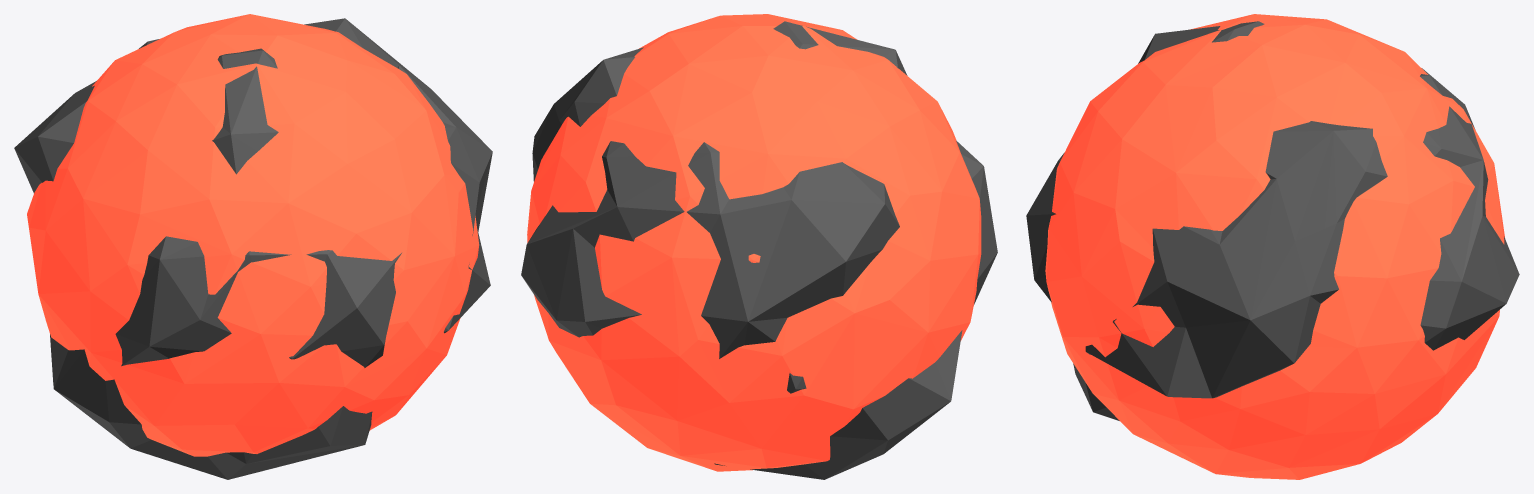
The model's file is lava_planet1.fbx.
3 views of the same model, side by side, from view 1: azimuth 30°, elevation 25°; view 2: azimuth 150°, elevation 25°; view 3: azimuth 270°, elevation 25° (orthographic). The views are drawn at different scales.
Parts seen in each view (by area): view 1: lava_planet1; view 2: lava_planet1; view 3: lava_planet1.
Part boxes in pixels (box(x1,y1,x2,y2)): lava_planet1: box(14, 14, 492, 479); lava_planet1: box(521, 14, 997, 479); lava_planet1: box(1026, 14, 1519, 479).
Bounding box in the file's own units: 218 × 207 × 212.
